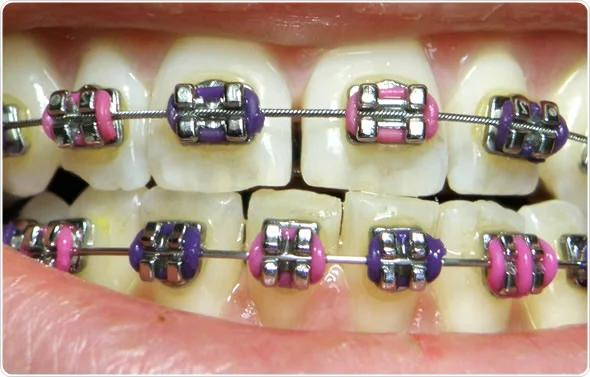Braces: (3, 79, 590, 297)
